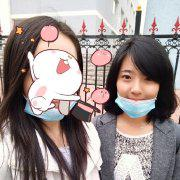WRONG: (115, 72, 161, 118)
